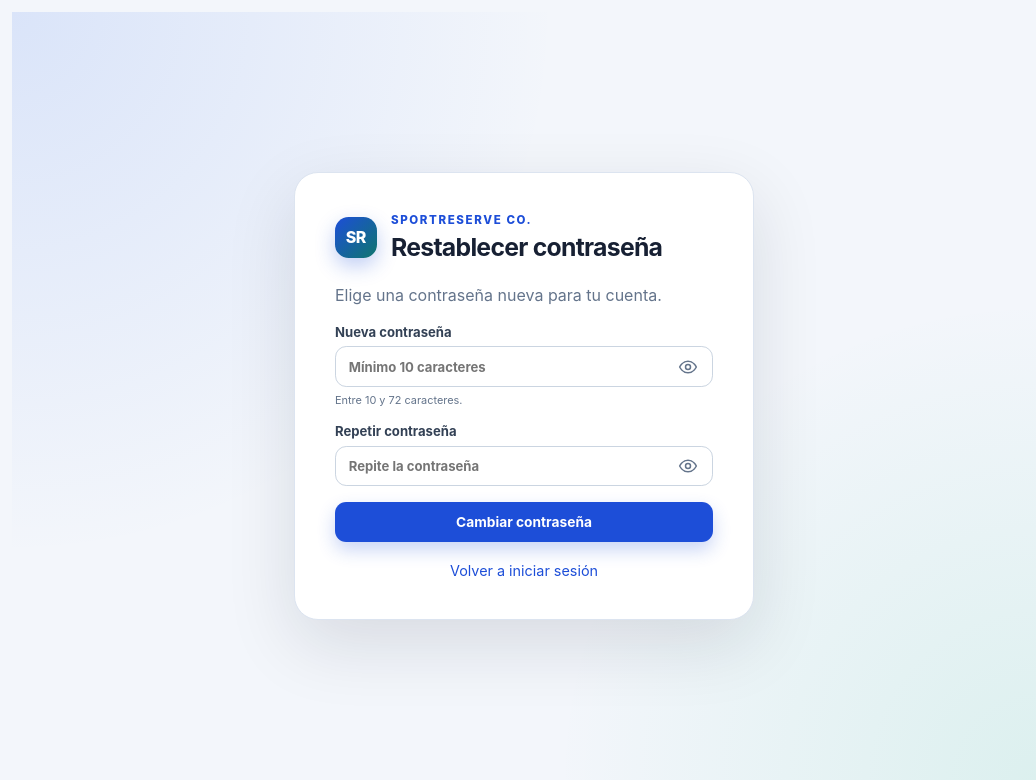
ResetPasswordPage › elimina el fragmento de la URL y usa el token original para restablecer
Later steps or results of the test are not shown.
Type "password123" into the password field labelled "Nueva contraseña Entre 10 y 72 caracteres.".
click(524, 367); type("password123")  # box [335, 346, 713, 387]
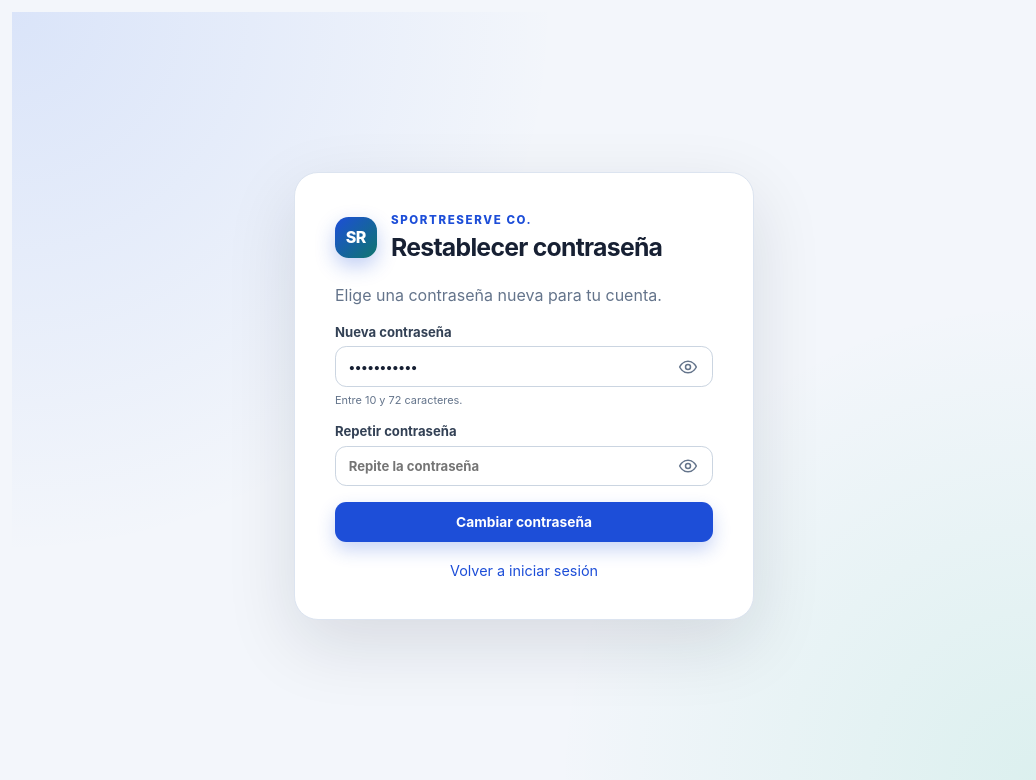
Type "password123" into the password field labelled "Repetir contraseña".
click(524, 466); type("password123")  # box [335, 446, 713, 486]
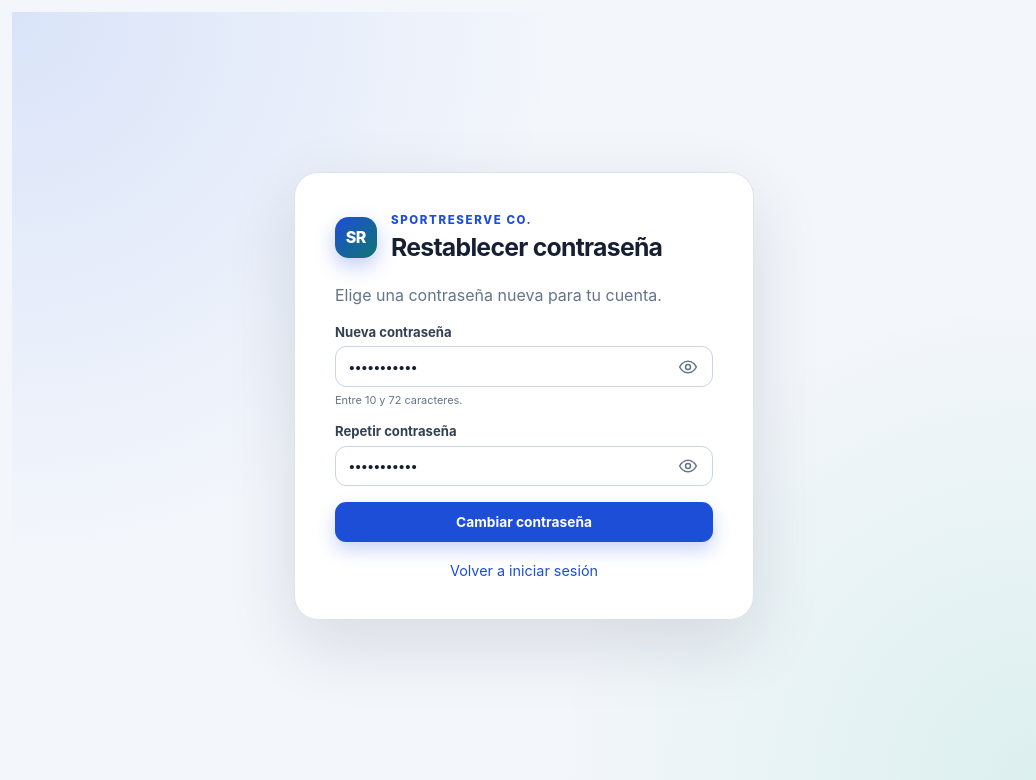
Click the button "Cambiar contraseña".
click(524, 522)  # box [335, 502, 713, 542]
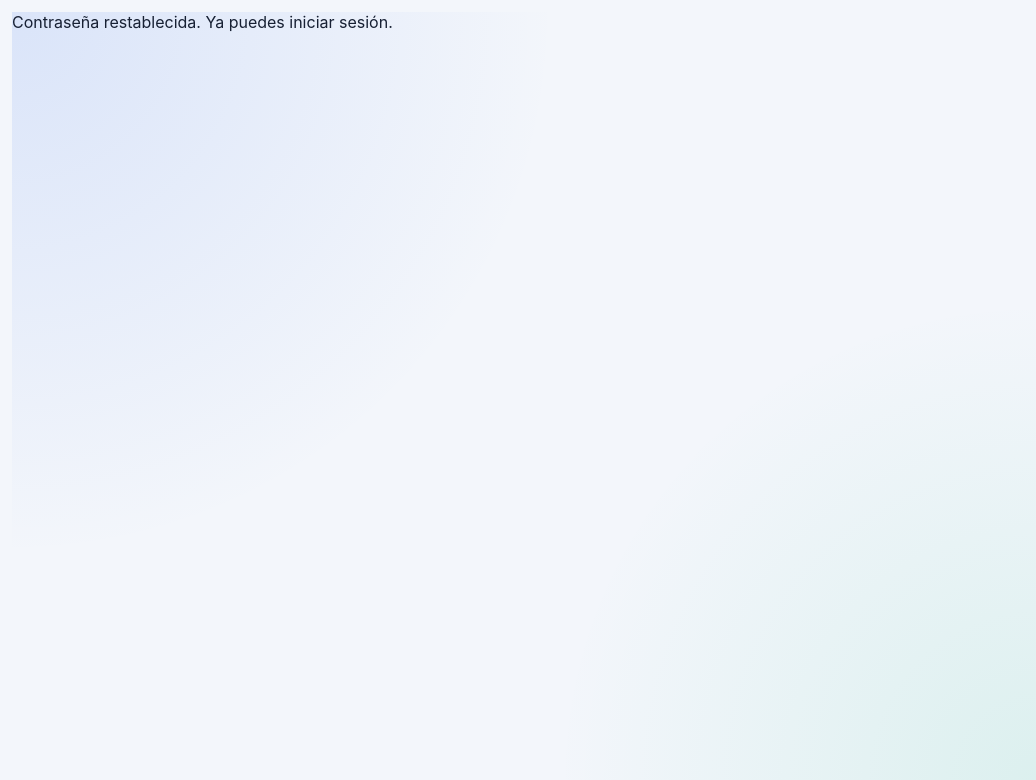
expect the text "Contraseña restablecida. Ya puedes iniciar sesión." is shown: met, box [12, 12, 393, 32]
